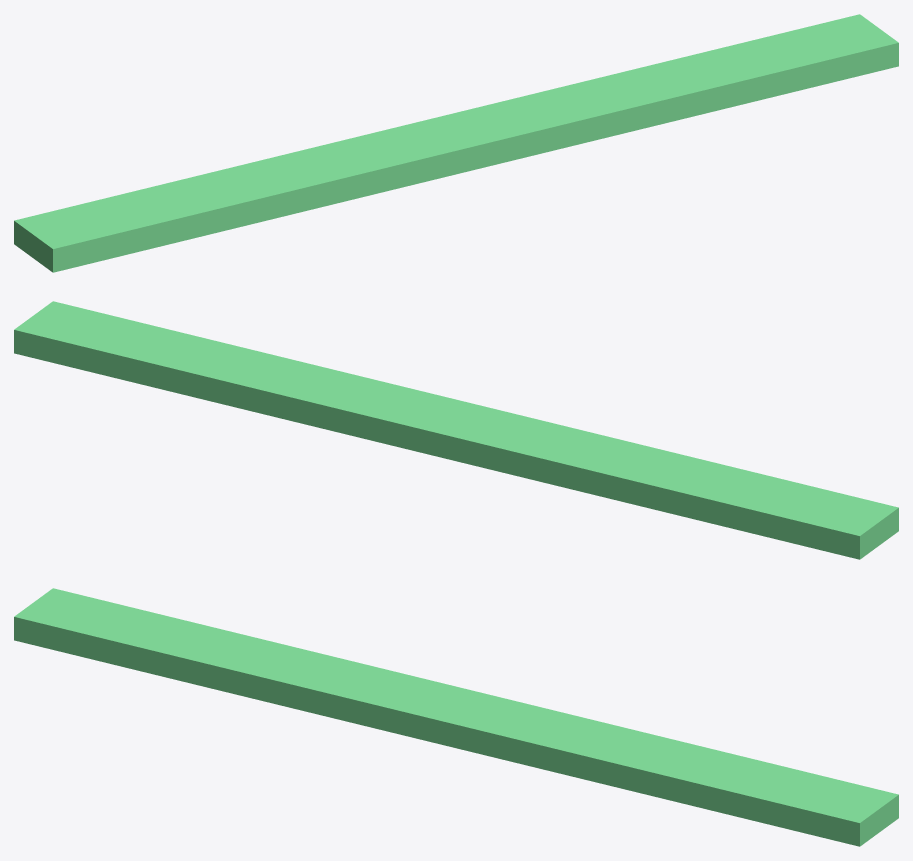
The model's file is tool_6-Group_86.gltf.
3 views of the same model, one above another, from view 1: azimuth 30°, elevation 25°; view 2: azimuth 150°, elevation 25°; view 3: azimuth 330°, elevation 25° (orthographic).
Parts seen in each view (by area): view 1: <组件#80>_11, <组件#80>_10; view 2: <组件#80>_10, <组件#80>_11; view 3: <组件#80>_11, <组件#80>_10.
Part boxes in pixels (x1,y1,x2,y2): <组件#80>_11: [33, 28, 898, 272]; <组件#80>_10: [14, 14, 878, 258]; <组件#80>_10: [14, 315, 879, 559]; <组件#80>_11: [34, 301, 898, 545]; <组件#80>_11: [14, 602, 879, 846]; <组件#80>_10: [34, 588, 898, 832].
Size of the model in its own units: 118 by 3.15 by 9.45.
